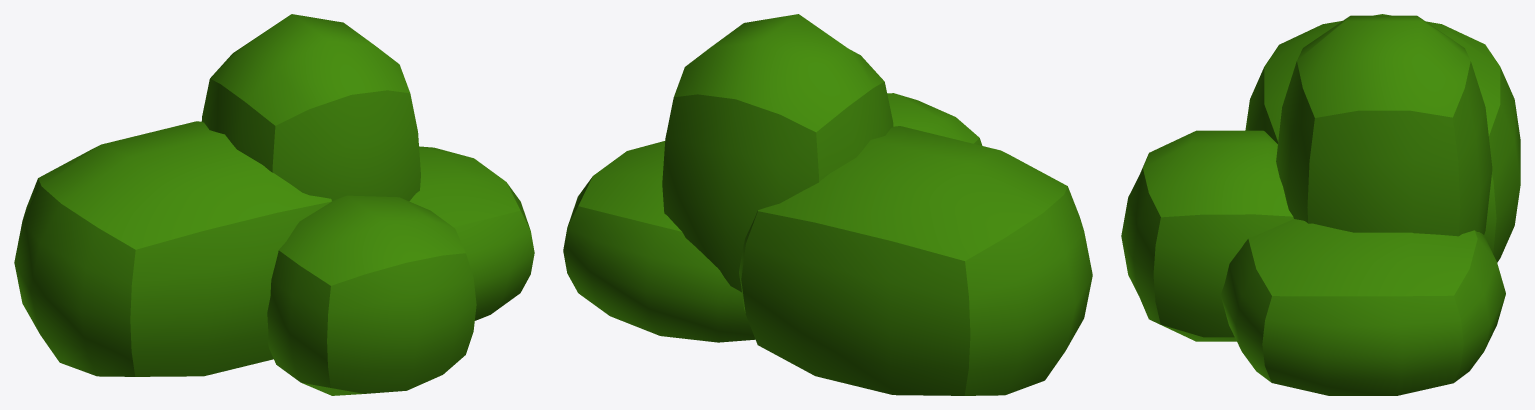
File: moita.FBX
The picture shows the model from 3 angles, left to right: view 1: azimuth 30°, elevation 25°; view 2: azimuth 150°, elevation 25°; view 3: azimuth 270°, elevation 25°; orthographic projection. The views are drawn at different scales.
Visible parts, largest first — view 1: Box002; view 2: Box002; view 3: Box002.
Boxes of the visible parts, x1,y1,x2,y2 form: Box002: [14, 14, 534, 395]; Box002: [563, 14, 1092, 395]; Box002: [1121, 14, 1520, 395].
Size of the model in its own units: 173 by 102 by 121.
